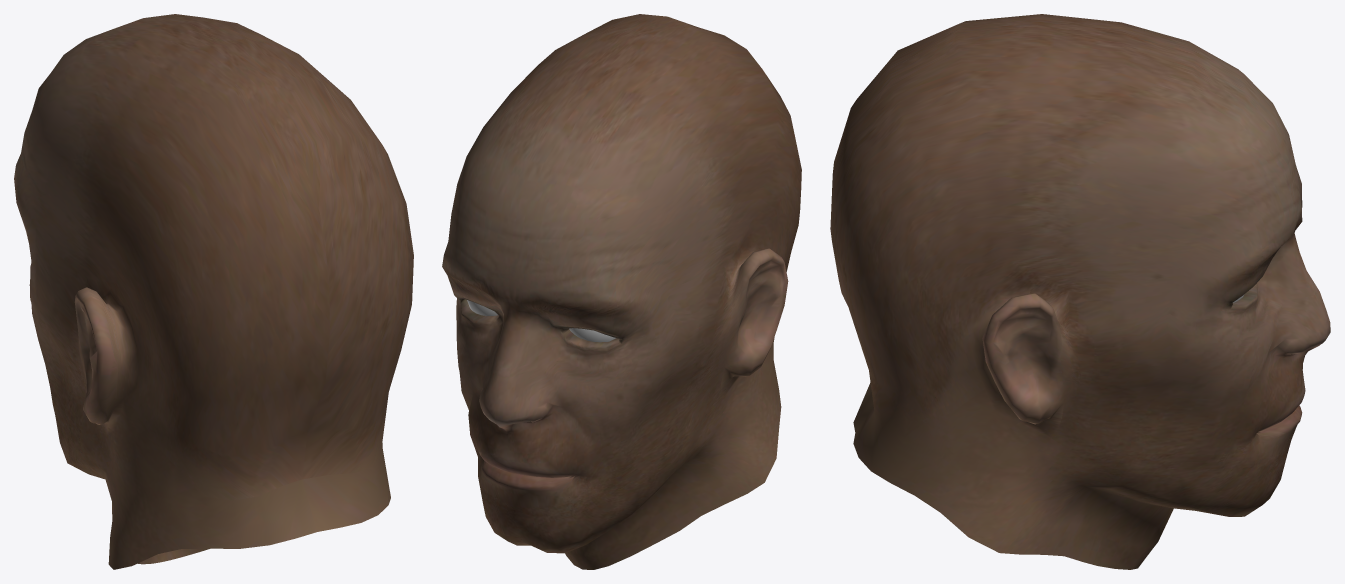
The model's file is G3_Head_Slave_Myrtana_Animated_02_S18.obj.
3 renders of one model, left to right at view 1: azimuth 30°, elevation 25°; view 2: azimuth 150°, elevation 25°; view 3: azimuth 270°, elevation 25°, orthographic. The views are drawn at different scales.
Parts seen in each view (by area): view 1: G3_Animation_Head_Slave_Main_02; view 2: G3_Animation_Head_Slave_Main_02; view 3: G3_Animation_Head_Slave_Main_02.
Part boxes in pixels (left/top/right/bottom): G3_Animation_Head_Slave_Main_02: left=14, top=14, right=413, bottom=569; G3_Animation_Head_Slave_Main_02: left=442, top=14, right=801, bottom=569; G3_Animation_Head_Slave_Main_02: left=830, top=14, right=1330, bottom=569.
Bounding box in the file's own units: 0.1382 × 0.2411 × 0.2036.
